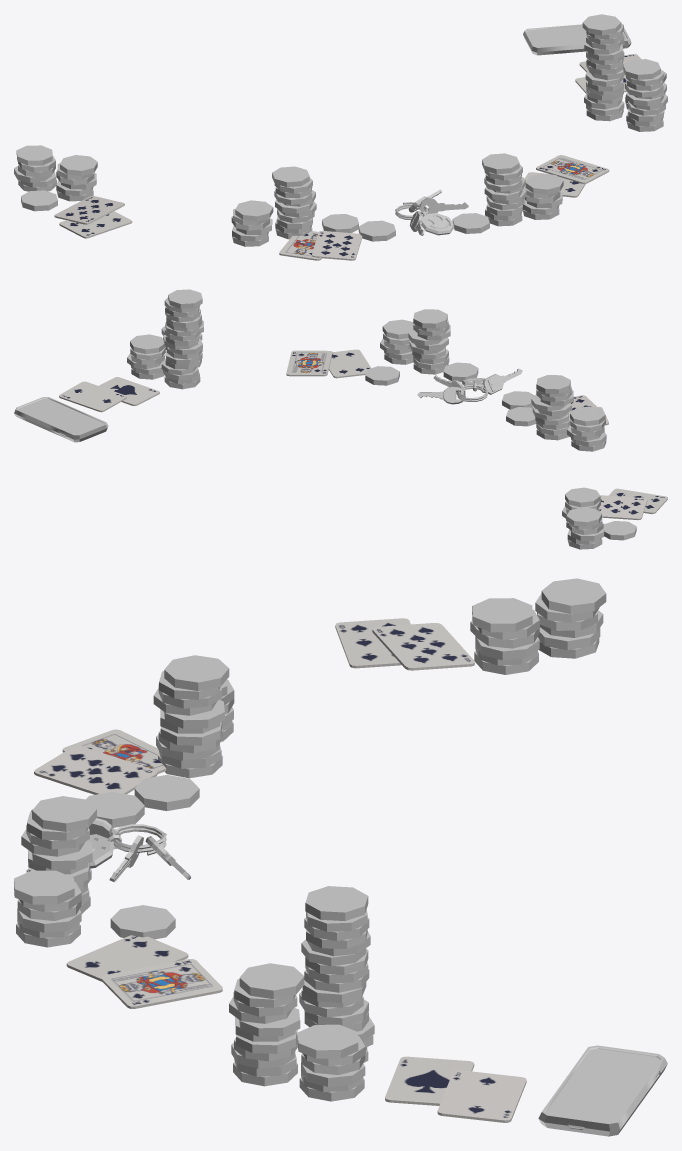
Rendered from SM_Prop_Blackjack_Table_01_Insert_02.fbx.
3 renders of one model, top to bottom at view 1: azimuth 30°, elevation 25°; view 2: azimuth 150°, elevation 25°; view 3: azimuth 270°, elevation 25°, orthographic. The views are drawn at different scales.
Parts seen in each view (by area): view 1: SM_Prop_Blackjack_Table_01_Insert_02; view 2: SM_Prop_Blackjack_Table_01_Insert_02; view 3: SM_Prop_Blackjack_Table_01_Insert_02.
Part boxes in pixels (x1,y1,x2,y2): SM_Prop_Blackjack_Table_01_Insert_02: (14,14,667,260); SM_Prop_Blackjack_Table_01_Insert_02: (14,289,667,549); SM_Prop_Blackjack_Table_01_Insert_02: (14,578,667,1136).
Bounding box in the file's own units: 192 × 27.46 × 102.
